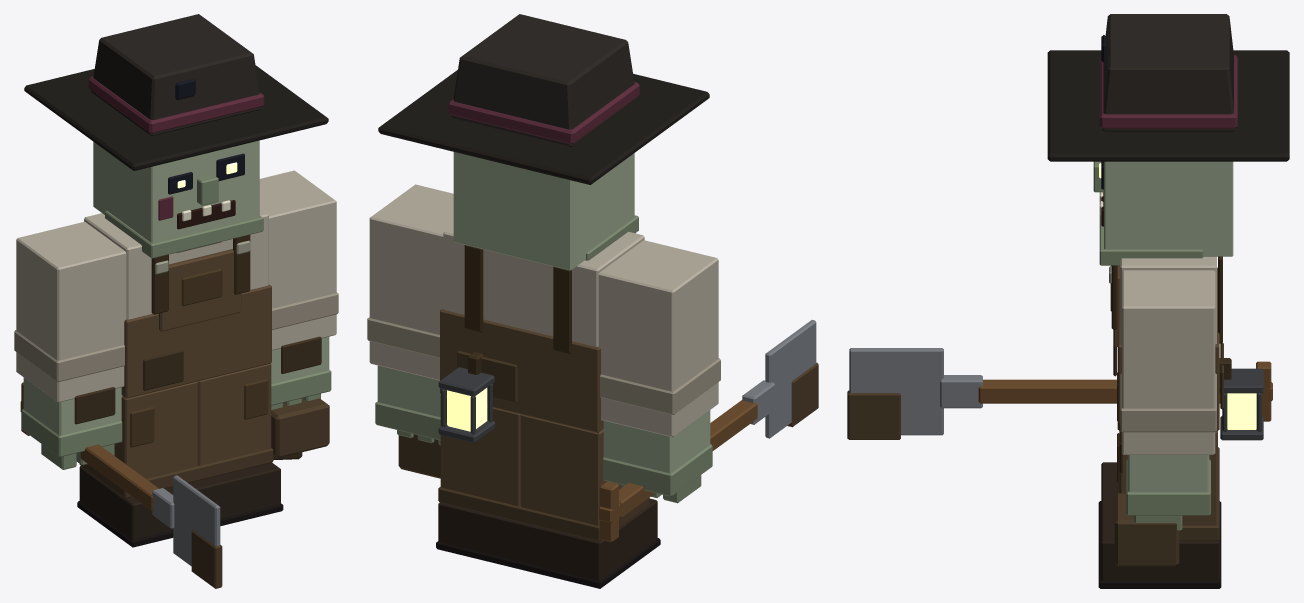
File: myw_zombiegravedigger.glb
The picture shows the model from 3 angles, left to right: view 1: azimuth 30°, elevation 25°; view 2: azimuth 150°, elevation 25°; view 3: azimuth 270°, elevation 25°; orthographic projection. The views are drawn at different scales.
Parts seen in each view (by area): view 1: Hat, RightArm, Torso, LeftArm, Head, RightLeg, LeftLeg, Shovel, Mud; view 2: Hat, Torso, RightArm, LeftArm, Head, RightLeg, LeftLeg, Shovel, Mud; view 3: Hat, LeftArm, Shovel, Head, Torso, LeftLeg, Mud, RightLeg.
Boxes of the visible parts, x1,y1,x2,y2 form: Hat: (24, 14, 328, 170); RightArm: (14, 221, 126, 469); Torso: (84, 208, 271, 398); LeftArm: (259, 170, 338, 409); Head: (93, 140, 263, 258); RightLeg: (77, 381, 206, 547); LeftLeg: (198, 363, 283, 525); Shovel: (20, 382, 222, 588); Mud: (271, 398, 329, 460); Hat: (378, 14, 709, 184); Torso: (438, 225, 644, 443); RightArm: (598, 240, 720, 503); LeftArm: (367, 184, 453, 445); Head: (453, 152, 638, 270); RightLeg: (517, 414, 660, 588); LeftLeg: (436, 395, 520, 569); Shovel: (599, 320, 818, 542); Mud: (398, 434, 440, 478); Hat: (1047, 14, 1289, 161); LeftArm: (1119, 270, 1216, 530); Shovel: (847, 348, 1272, 439); Head: (1093, 161, 1233, 265); Torso: (1109, 256, 1263, 440); LeftLeg: (1098, 431, 1221, 588); Mud: (1114, 493, 1179, 566); RightLeg: (1098, 372, 1221, 542).
Bounding box in the file's own units: 4.16 × 6.5 × 5.12.
